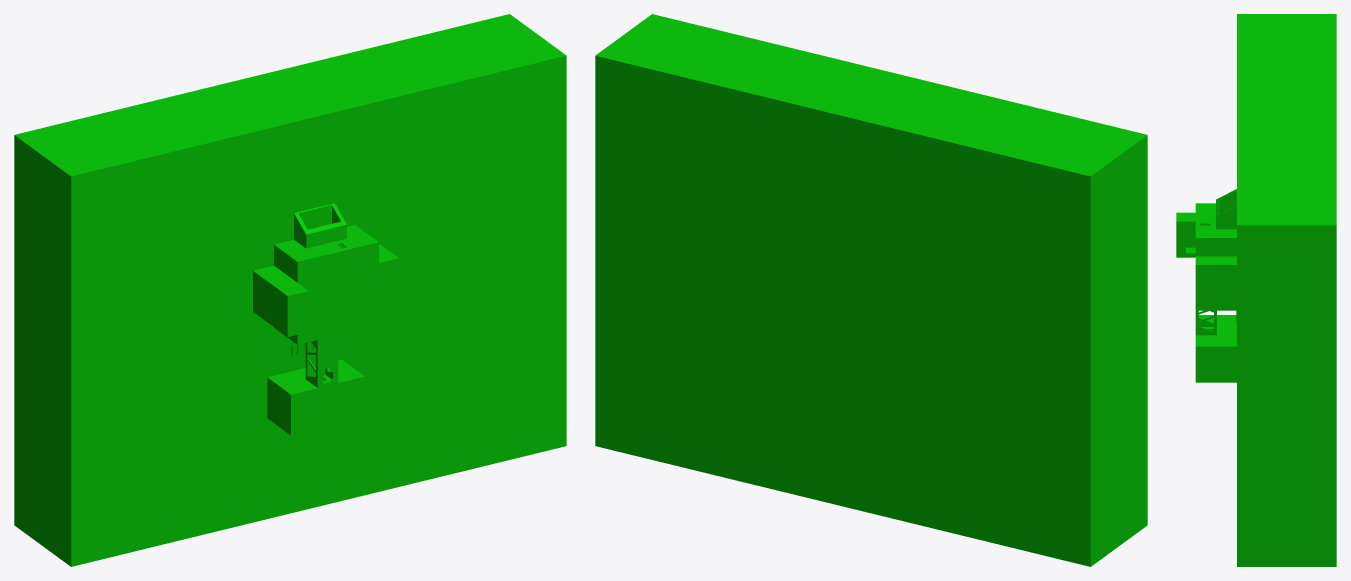
File: debug_0002_dec.obj
The picture shows the model from 3 angles, left to right: view 1: azimuth 30°, elevation 25°; view 2: azimuth 150°, elevation 25°; view 3: azimuth 270°, elevation 25°; orthographic projection. The views are drawn at different scales.
Visible parts, largest first — view 1: COLLIDE.054_Cube.110; view 2: COLLIDE.054_Cube.110; view 3: COLLIDE.054_Cube.110.
Boxes of the visible parts, left/top/right/bottom form: COLLIDE.054_Cube.110: left=14, top=14, right=566, bottom=566; COLLIDE.054_Cube.110: left=595, top=14, right=1147, bottom=566; COLLIDE.054_Cube.110: left=1176, top=14, right=1336, bottom=566.
Size of the model in its own units: 2072 by 1560 by 664.
